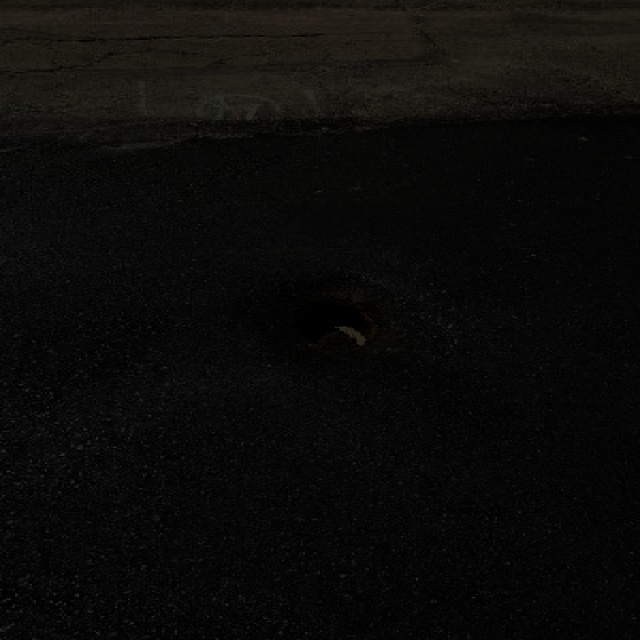Pothole: (286, 296, 386, 352)
